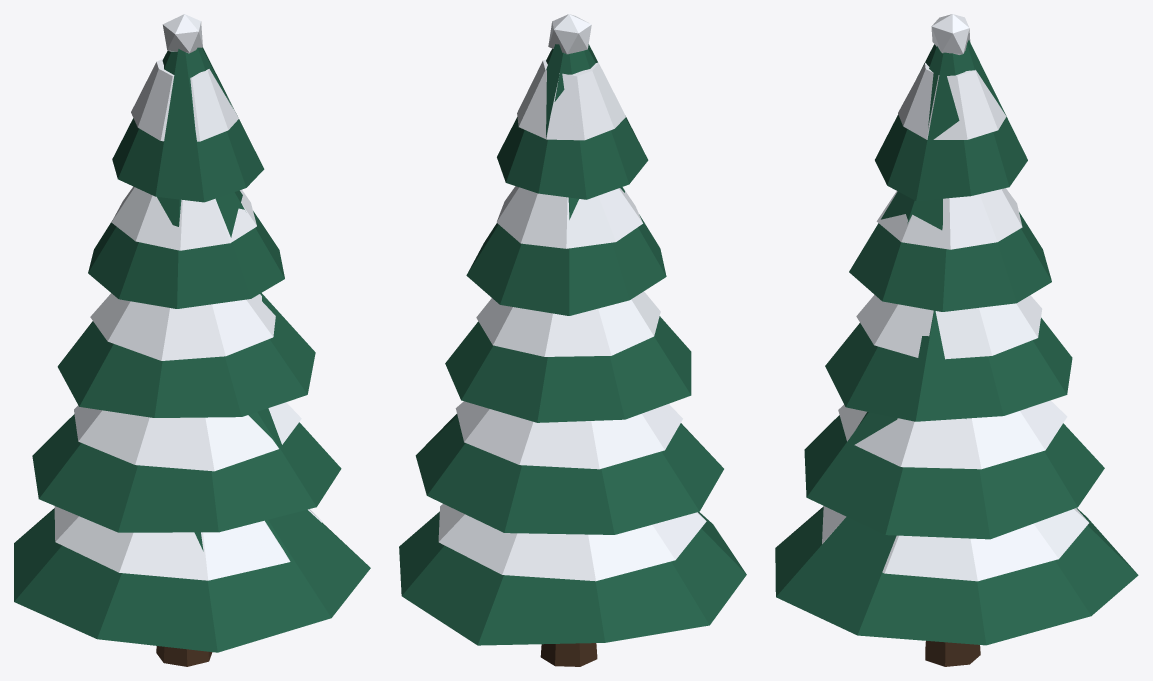
Rendered from SnowPine.fbx.
The picture shows the model from 3 angles, left to right: view 1: azimuth 30°, elevation 25°; view 2: azimuth 150°, elevation 25°; view 3: azimuth 270°, elevation 25°; orthographic projection.
Visible parts, largest first — view 1: Needles, Snow, Trunk; view 2: Needles, Snow, Trunk; view 3: Needles, Snow, Trunk.
Part boxes in pixels (left/top/right/bottom): Needles: left=14, top=47, right=370, bottom=652; Snow: left=54, top=14, right=322, bottom=580; Trunk: left=156, top=646, right=212, bottom=666; Needles: left=399, top=44, right=746, bottom=645; Snow: left=438, top=14, right=706, bottom=581; Trunk: left=540, top=643, right=597, bottom=666; Needles: left=775, top=40, right=1138, bottom=645; Snow: left=822, top=14, right=1088, bottom=581; Trunk: left=925, top=641, right=980, bottom=666.
Bounding box in the file's own units: 8.55 × 16.98 × 8.72.
